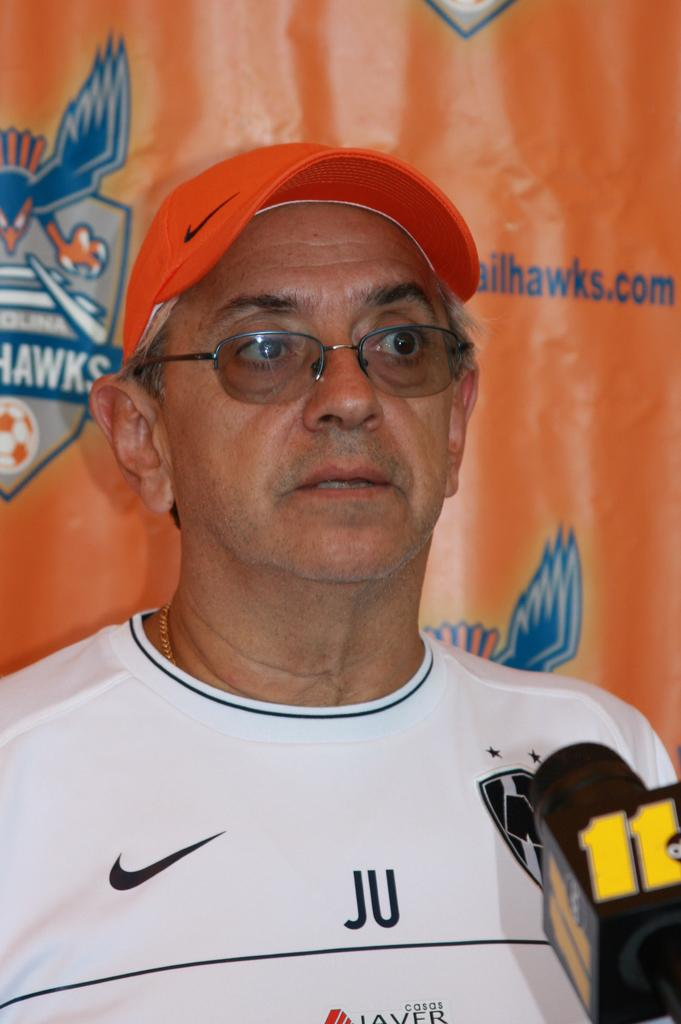Hat: (120, 140, 478, 358)
